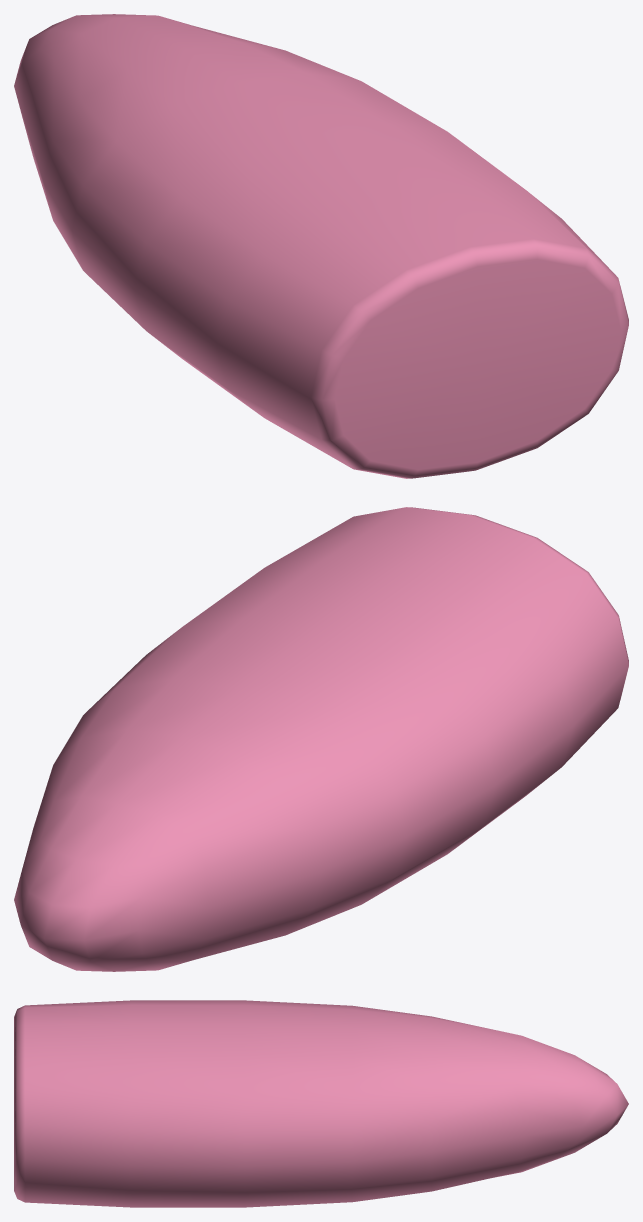
The model's file is Squid_1_Half_1.fbx.
3 views of the same model, one above another, from view 1: azimuth 30°, elevation 25°; view 2: azimuth 150°, elevation 25°; view 3: azimuth 270°, elevation 25° (orthographic). The views are drawn at different scales.
Visible parts, largest first — view 1: Squid_1_Half_1; view 2: Squid_1_Half_1; view 3: Squid_1_Half_1.
Part boxes in pixels (<box>): Squid_1_Half_1: <box>14,14,628,478</box>; Squid_1_Half_1: <box>14,507,628,971</box>; Squid_1_Half_1: <box>14,1000,628,1207</box>.
Size of the model in its own units: 11.59 by 6.85 by 24.03.
